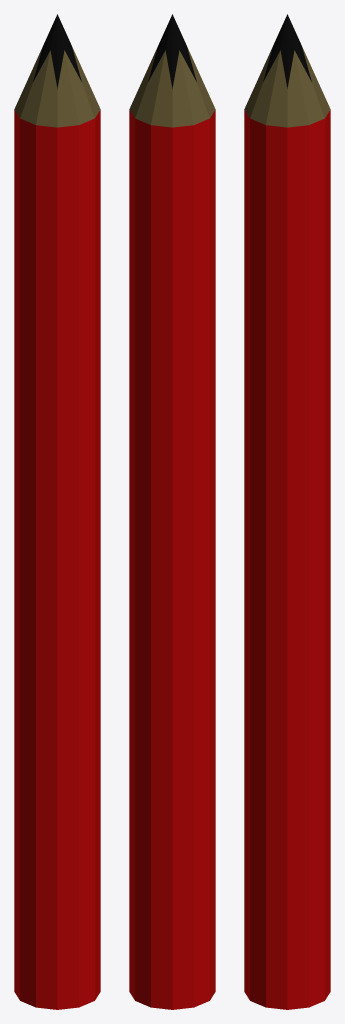
The model's file is redpencil.obj.
The picture shows the model from 3 angles, left to right: view 1: azimuth 90°, elevation 25°; view 2: azimuth 150°, elevation 25°; view 3: azimuth 270°, elevation 25°; orthographic projection.
Visible parts, largest first — view 1: Cylinder; view 2: Cylinder; view 3: Cylinder.
Part boxes in pixels (x1,y1,x2,y2): Cylinder: (14,14,100,1009); Cylinder: (129,14,215,1009); Cylinder: (244,14,330,1009).
Size of the model in its own units: 0.02 by 0.2503 by 0.02.
